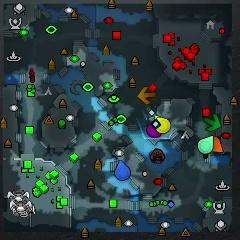p1: (115, 160, 131, 180)
p2: (198, 135, 213, 154)
p3: (147, 121, 161, 138)
p4: (154, 114, 171, 134)
p5: (211, 137, 224, 154)
x4: (204, 114, 221, 131)
x5: (137, 87, 156, 103)
